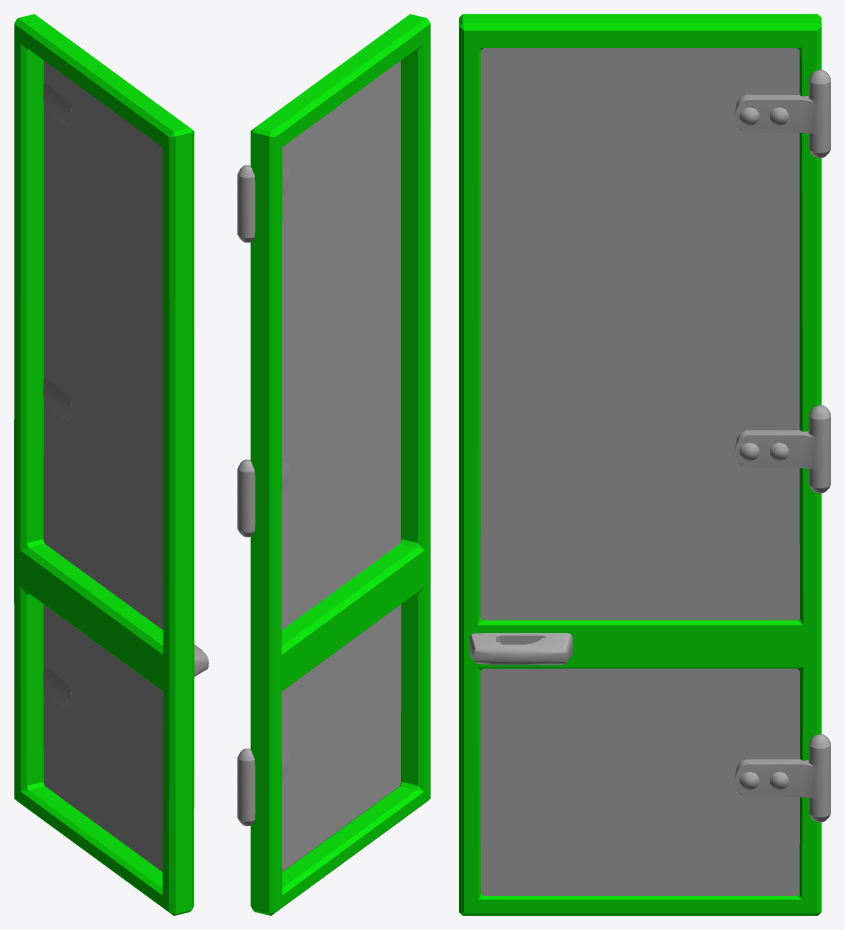
Rendered from Compactor_Door_01a_snaps005.fbx.
3 views of the same model, side by side, from view 1: azimuth 30°, elevation 25°; view 2: azimuth 150°, elevation 25°; view 3: azimuth 270°, elevation 25° (orthographic). The views are drawn at different scales.
Visible parts, largest first — view 1: door; view 2: door; view 3: door.
Part boxes in pixels (x1,y1,x2,y2): door: [14, 14, 208, 915]; door: [237, 14, 430, 915]; door: [459, 14, 830, 915].
Bounding box in the file's own units: 11.09 × 174 × 65.64.
